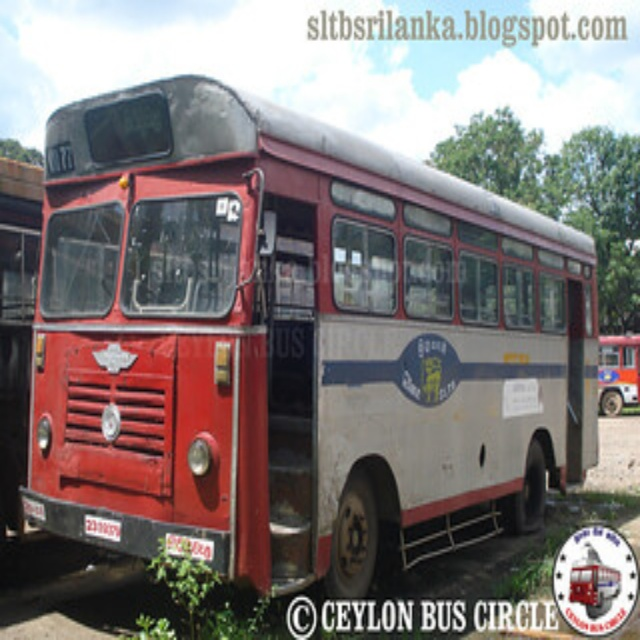Bus: (16, 69, 594, 600)
